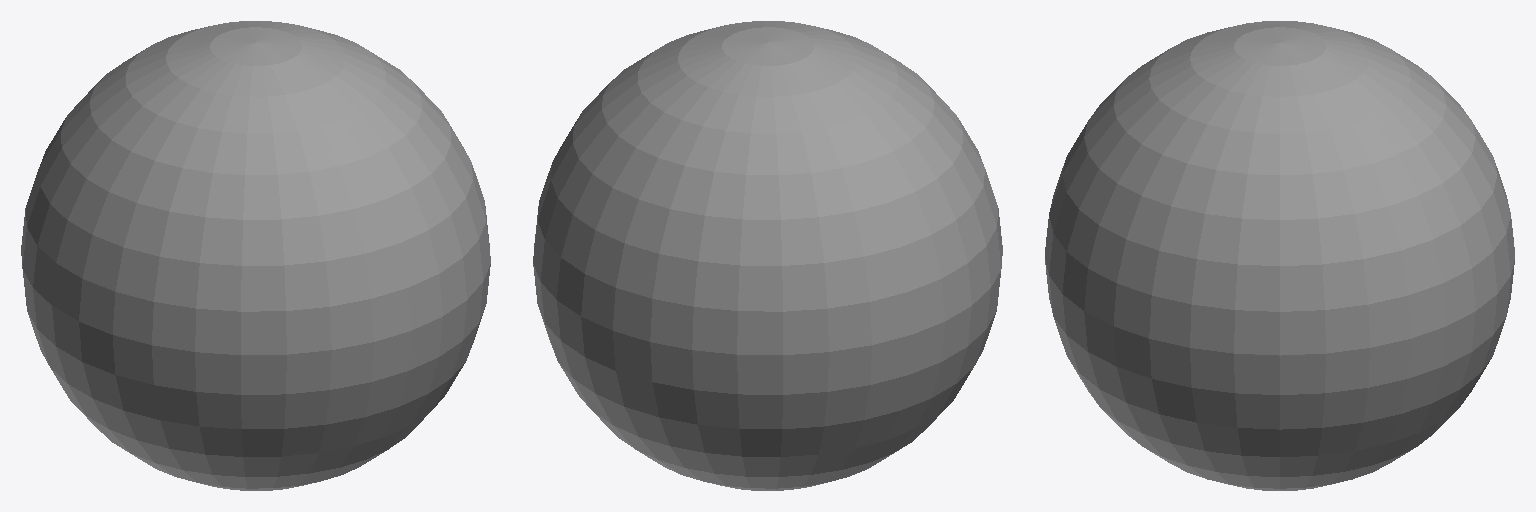
Rendered from planet.obj.
The picture shows the model from 3 angles: view 1: azimuth 30°, elevation 25°; view 2: azimuth 150°, elevation 25°; view 3: azimuth 270°, elevation 25°; orthographic projection.
Visible parts, largest first — view 1: Sphere; view 2: Sphere; view 3: Sphere.
Part boxes in pixels (bbox=[...]): Sphere: bbox=[21, 21, 490, 490]; Sphere: bbox=[533, 21, 1002, 490]; Sphere: bbox=[1045, 21, 1514, 490].
Size of the model in its own units: 2 by 2 by 2.